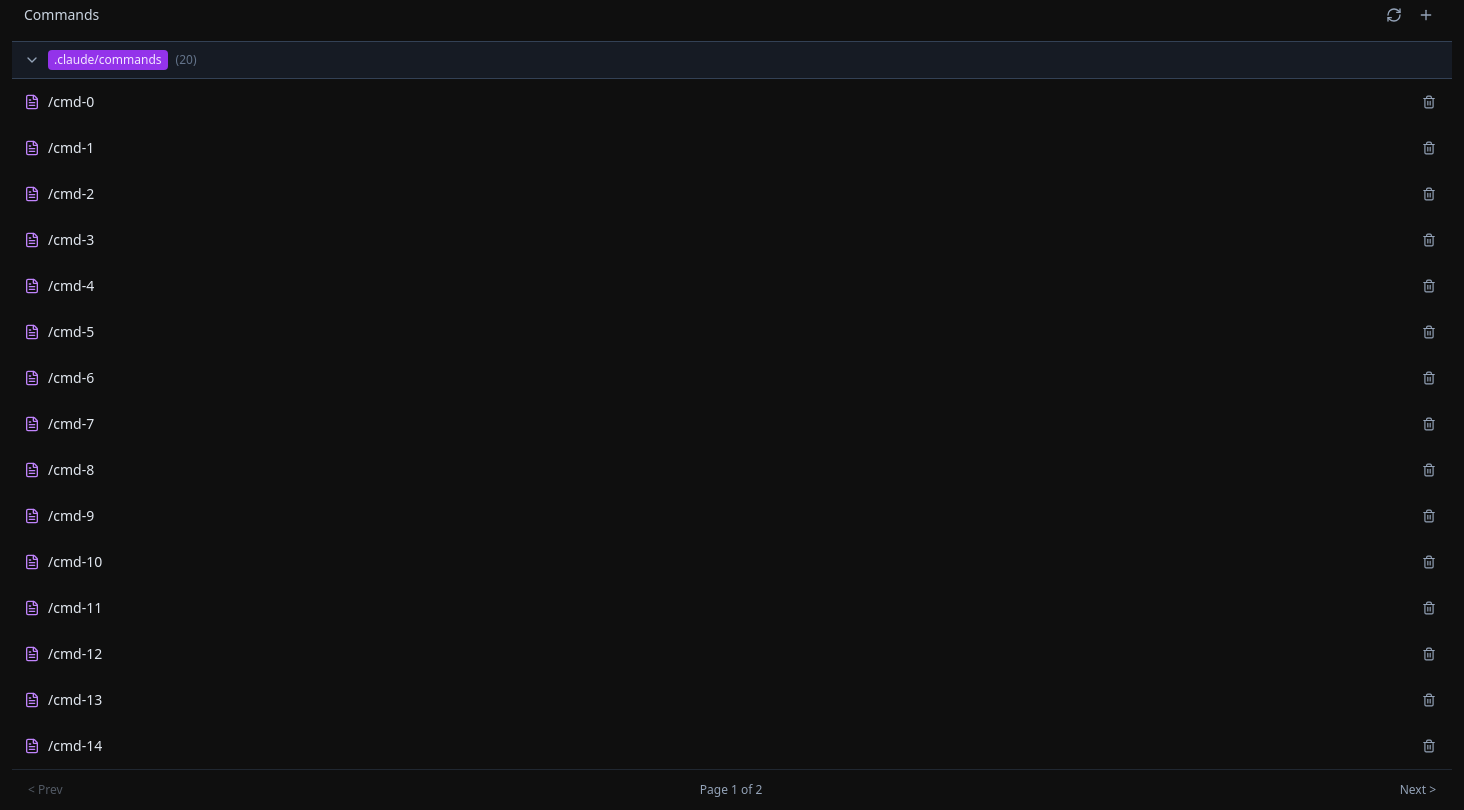
Test: CommandsList › pagination › navigates to next page when next button is clicked
(page scrolled)
expect the text ".claude/commands" is shown: met, box [48,50,168,70]
expect the text "Page 1 of 2" is shown: met, box [700,782,762,798]
// Click next
What coordinates should you click on to do the following:
click the button with aria-label "Next page"
I would click on:
 (1418, 790)
Its box is [1392,778,1444,802].
(page scrolled)
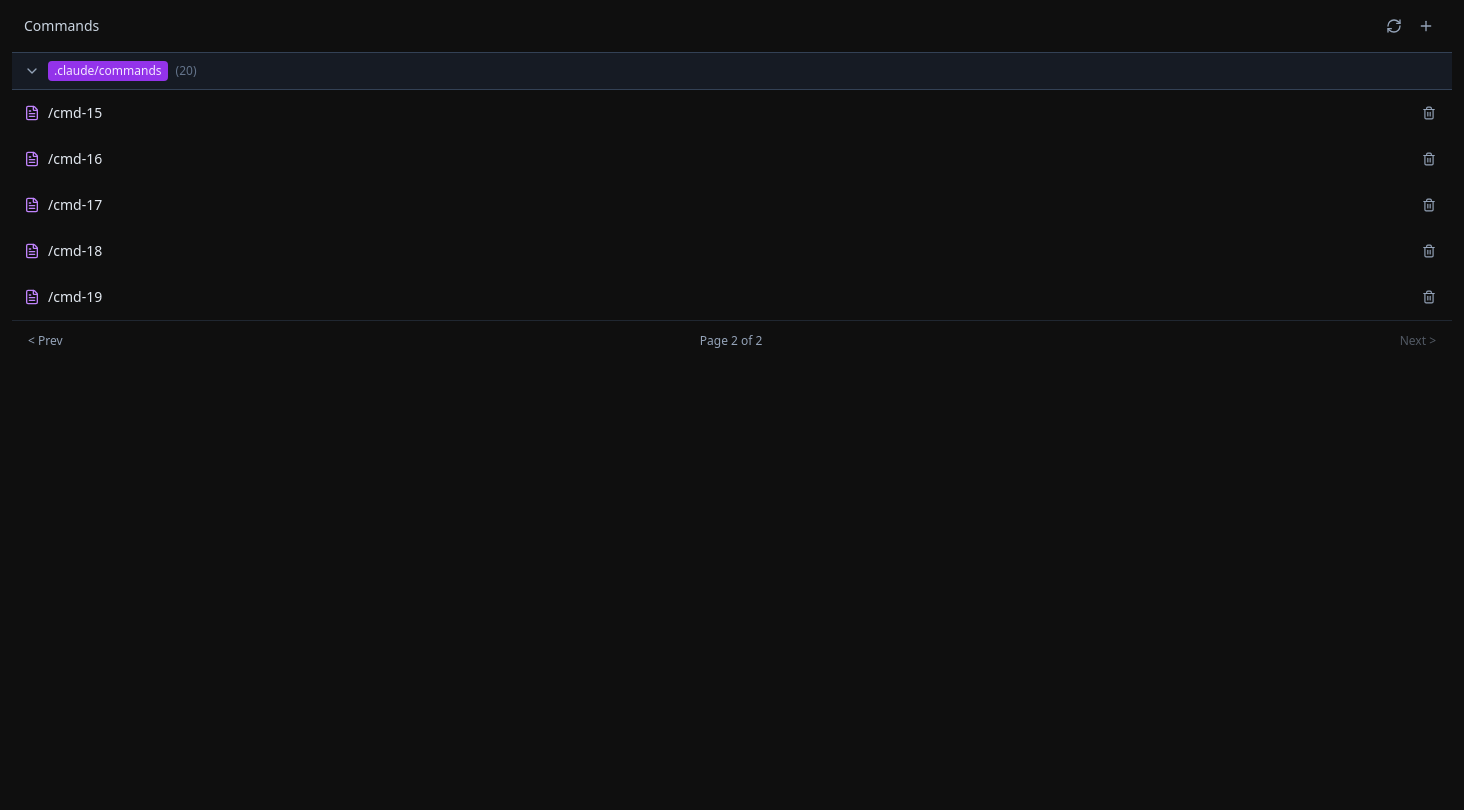
expect the text "Page 2 of 2" is shown: met, box [700,333,762,349]
